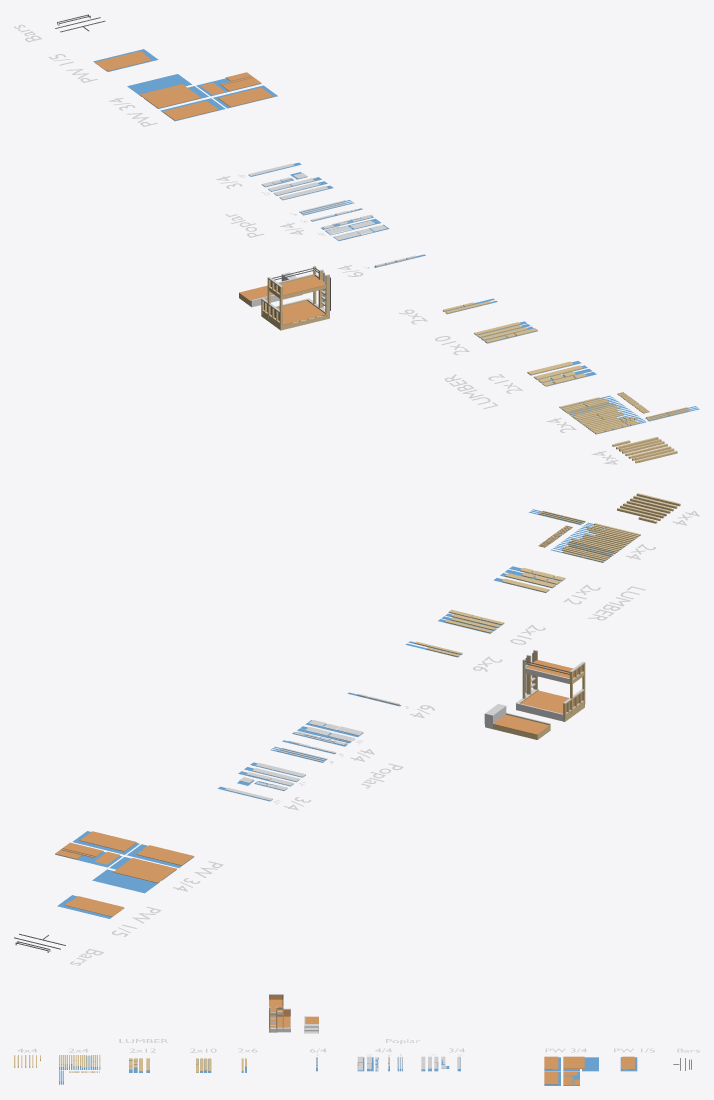
File: bunks-cut.glb
3 views of the same model, one above another, from view 1: azimuth 30°, elevation 25°; view 2: azimuth 150°, elevation 25°; view 3: azimuth 270°, elevation 25° (orthographic). The views are drawn at different scales.
Parts seen in each view (by area): view 1: queen-platform.001; view 2: queen-platform.001, Plane.054; view 3: queen-platform.001, Plane.054, queen-platform, twin-platform-top.001, twin-platform-bottom.001, bed-platform.001.
Boxes of the visible parts, x1,y1,x2,y2 form: queen-platform.001: [139, 84, 200, 108]; queen-platform.001: [113, 858, 176, 883]; Plane.054: [92, 869, 159, 893]; queen-platform.001: [563, 1056, 584, 1068]; Plane.054: [582, 1057, 598, 1071]; queen-platform: [270, 1016, 290, 1027]; twin-platform-top.001: [544, 1056, 558, 1069]; twin-platform-bottom.001: [621, 1056, 634, 1069]; bed-platform.001: [544, 1072, 558, 1084].
Bounding box in the file's own units: 11.46 × 2.08 × 49.95.
